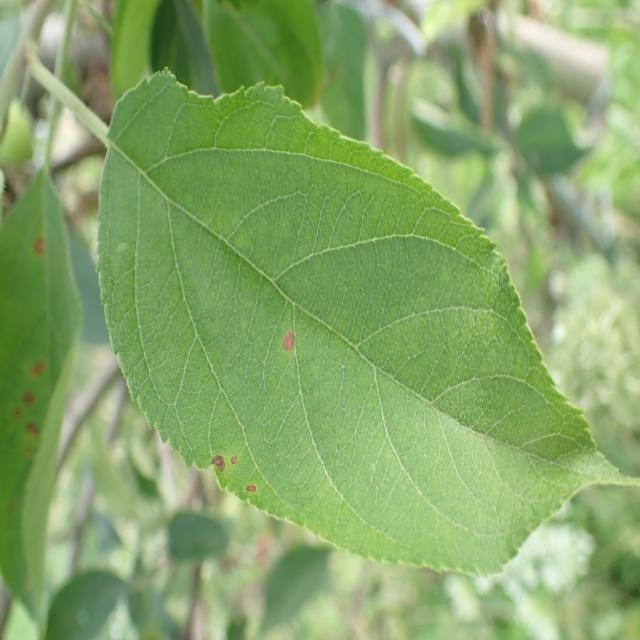Black Rot: (273, 301, 308, 378), (203, 434, 231, 483), (242, 477, 266, 512)
